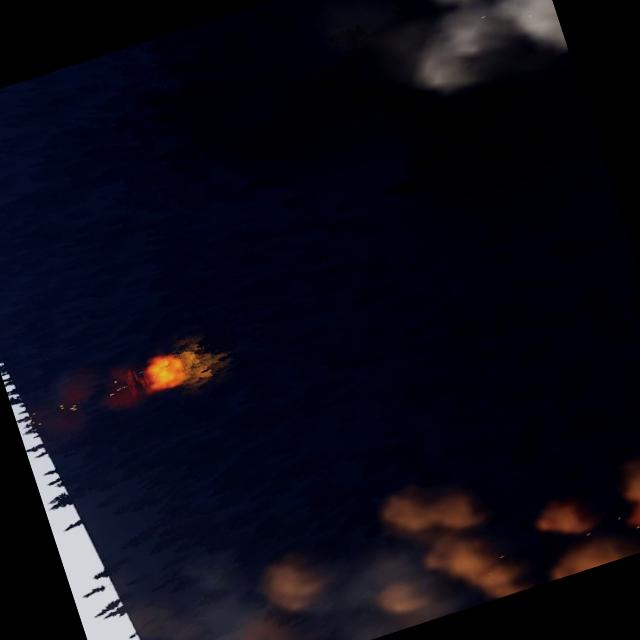fire: (134, 331, 230, 397)
smoke: (114, 420, 640, 640), (302, 0, 567, 132), (26, 352, 152, 446)
